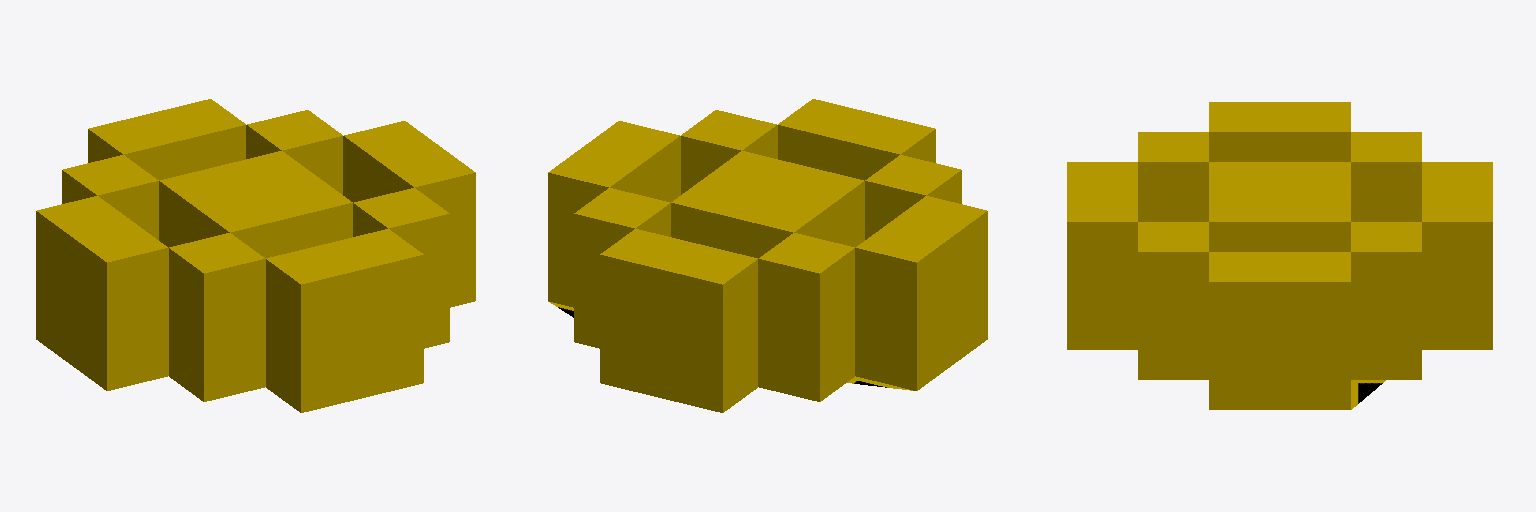
3 views of the same model, side by side, from view 1: azimuth 30°, elevation 25°; view 2: azimuth 150°, elevation 25°; view 3: azimuth 270°, elevation 25° (orthographic).
Visible parts, largest first — view 1: Coins_1_Gold_Coins_1_Gold.001; view 2: Coins_1_Gold_Coins_1_Gold.001; view 3: Coins_1_Gold_Coins_1_Gold.001.
Part boxes in pixels (x1,y1,x2,y2): Coins_1_Gold_Coins_1_Gold.001: (36,99,475,412); Coins_1_Gold_Coins_1_Gold.001: (548,99,987,412); Coins_1_Gold_Coins_1_Gold.001: (1067,102,1492,409).
Size of the model in its own units: 0.6 by 0.2 by 0.6.
1 materials, 1 textured.